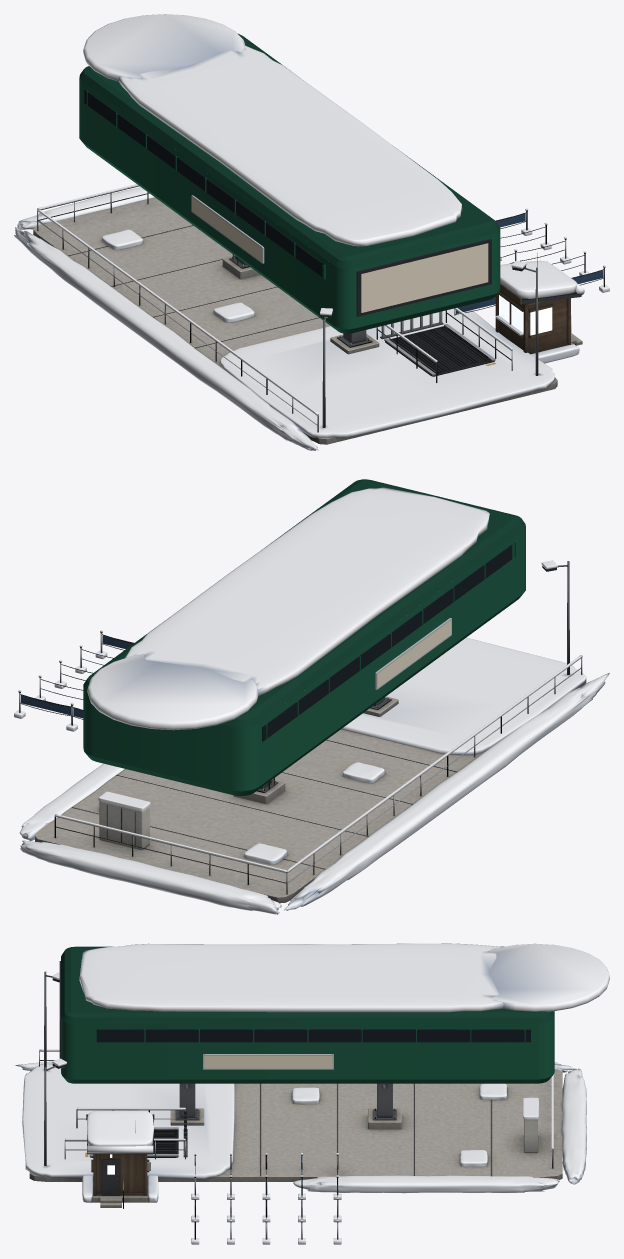
File: terminal_detach_dline.glb
The picture shows the model from 3 angles, top to bottom: view 1: azimuth 30°, elevation 25°; view 2: azimuth 150°, elevation 25°; view 3: azimuth 270°, elevation 25°; orthographic projection. The views are drawn at different scales.
Visible parts, largest first — view 1: terminal_detach_dline_snow, terminal_detach_dline, terminal_detach_dline_paint, terminal_detach_dline_flat, terminal_detach_dline_lit; view 2: terminal_detach_dline_snow, terminal_detach_dline, terminal_detach_dline_paint, terminal_detach_dline_flat; view 3: terminal_detach_dline_snow, terminal_detach_dline, terminal_detach_dline_paint, terminal_detach_dline_flat.
Boxes of the visible parts, x1,y1,x2,y2 form: terminal_detach_dline_snow: (14, 14, 609, 450); terminal_detach_dline: (33, 89, 605, 444); terminal_detach_dline_paint: (79, 33, 500, 333); terminal_detach_dline_flat: (192, 197, 488, 312); terminal_detach_dline_lit: (499, 295, 552, 335); terminal_detach_dline_snow: (14, 487, 609, 914); terminal_detach_dline: (18, 544, 586, 903); terminal_detach_dline_paint: (83, 479, 525, 795); terminal_detach_dline_flat: (377, 620, 451, 687); terminal_detach_dline_snow: (15, 943, 609, 1244); terminal_detach_dline: (29, 961, 562, 1239); terminal_detach_dline_paint: (61, 946, 554, 1083); terminal_detach_dline_flat: (204, 1056, 332, 1068).
Bounding box in the file's own units: 21.41 × 9.2 × 30.19.
7 materials, 1 textured.
